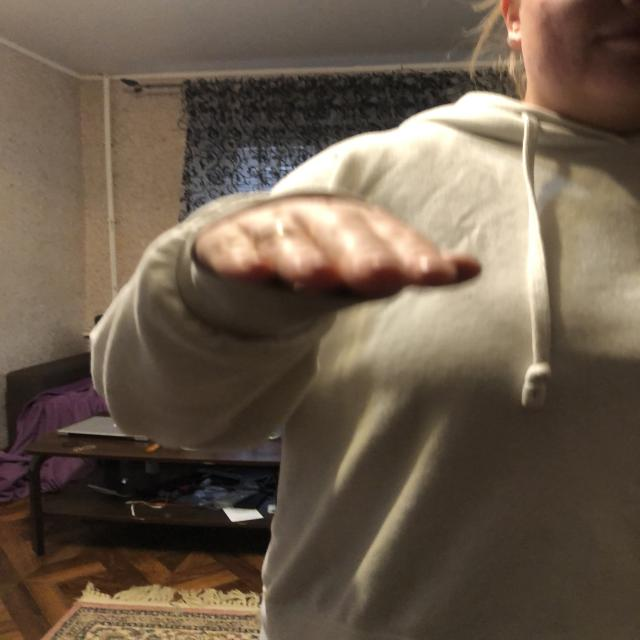paper: (202, 200, 483, 288)
